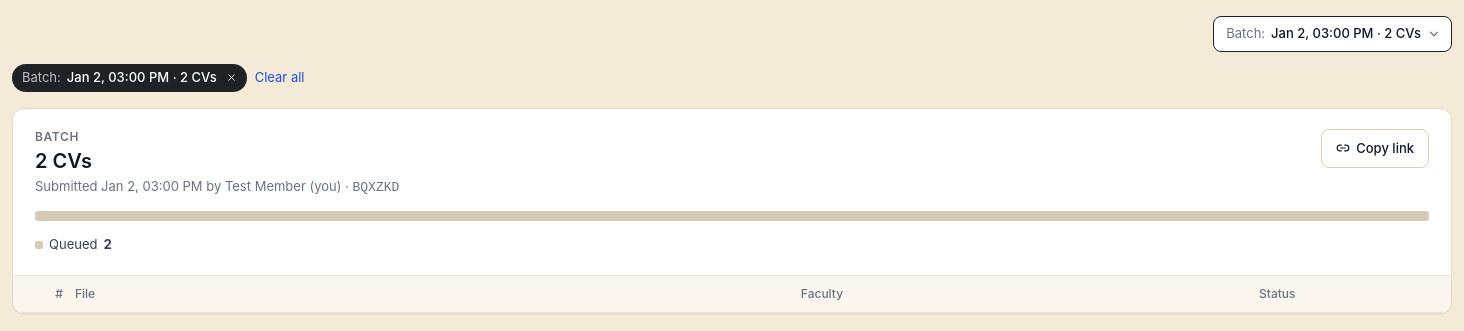
Test: RunHistory batch filter › shows the batch view for ?batch= with a removable Batch chip
This screenshot has width=1464, height=331.
Expected: the 2nd text "Jan 2, 03:00 PM · 2 CVs" is shown, [67,68,217,88]
Step 1. Click the button named "Remove Batch filter" → click(232, 78), box [223,69,241,87]
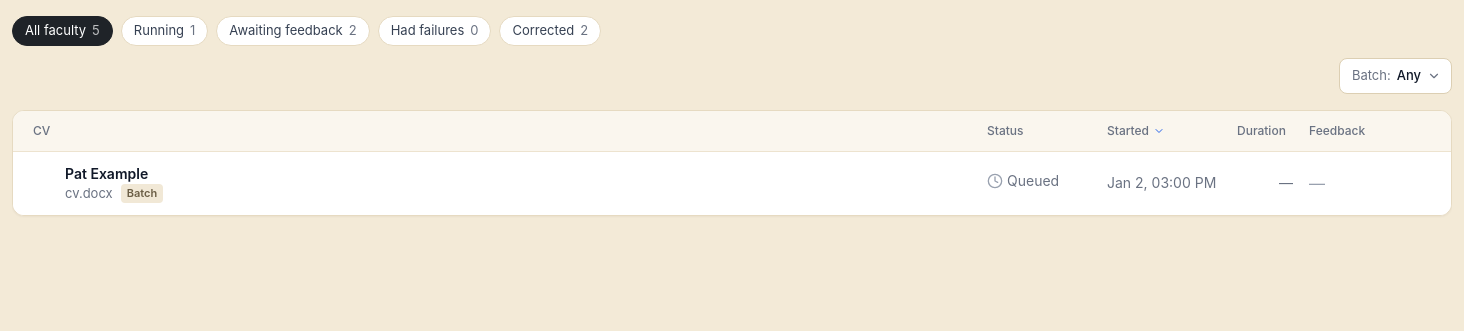
Expected: the table is shown, [13,110,1451,215]
